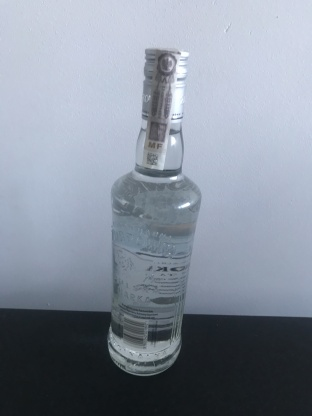nakretka: (139, 43, 191, 126)
